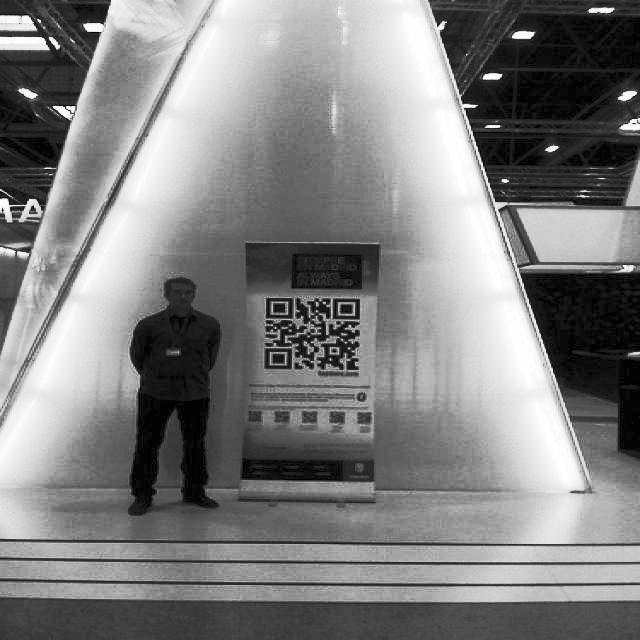qr_code: (265, 298, 359, 369), (358, 412, 371, 423), (275, 411, 289, 421), (330, 413, 343, 423), (249, 411, 261, 421), (304, 412, 316, 422)
